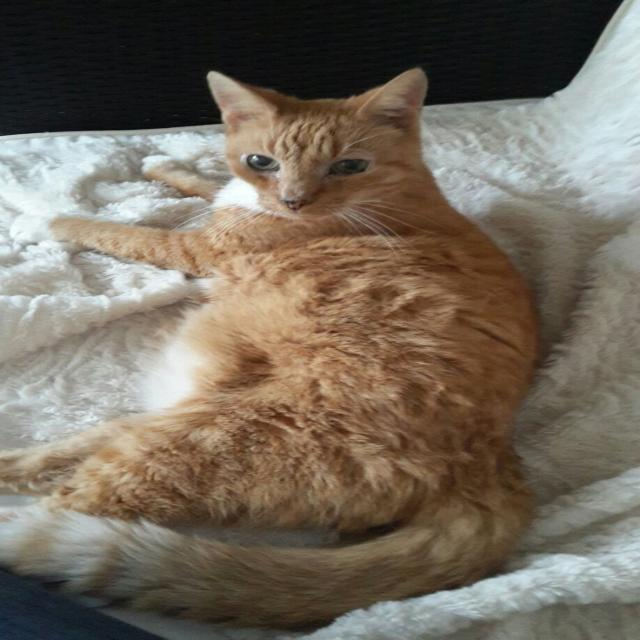sarman: (0, 0, 570, 585)
